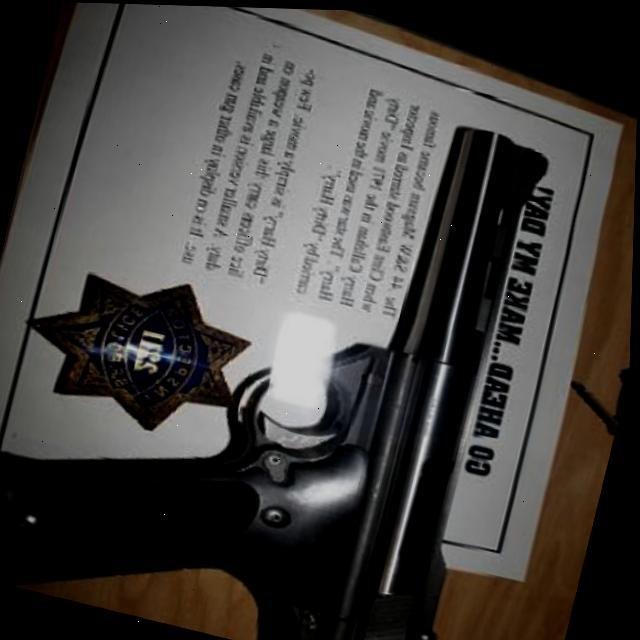gun: (0, 27, 574, 640)
